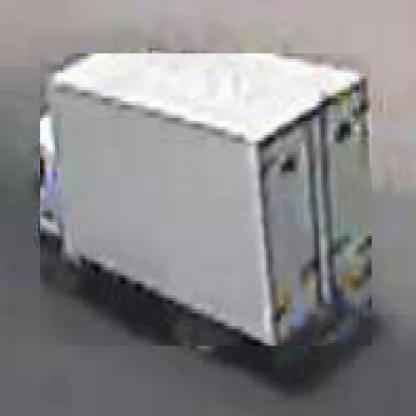truck: (41, 55, 375, 350)
